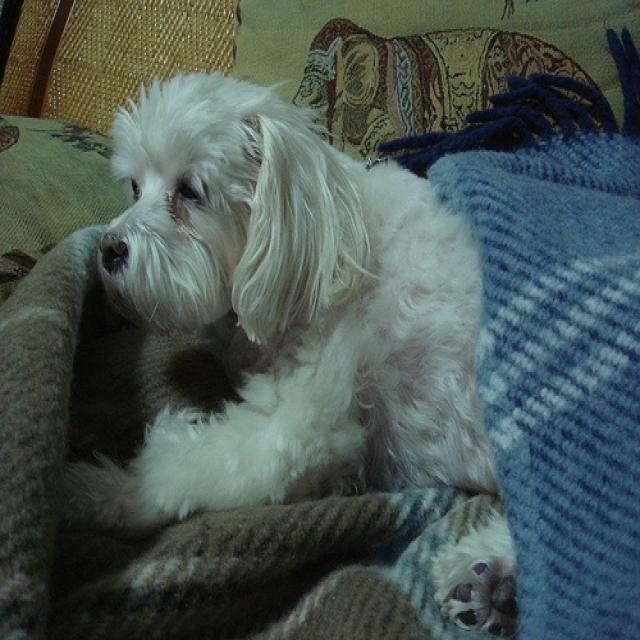dog: (63, 70, 517, 637)
